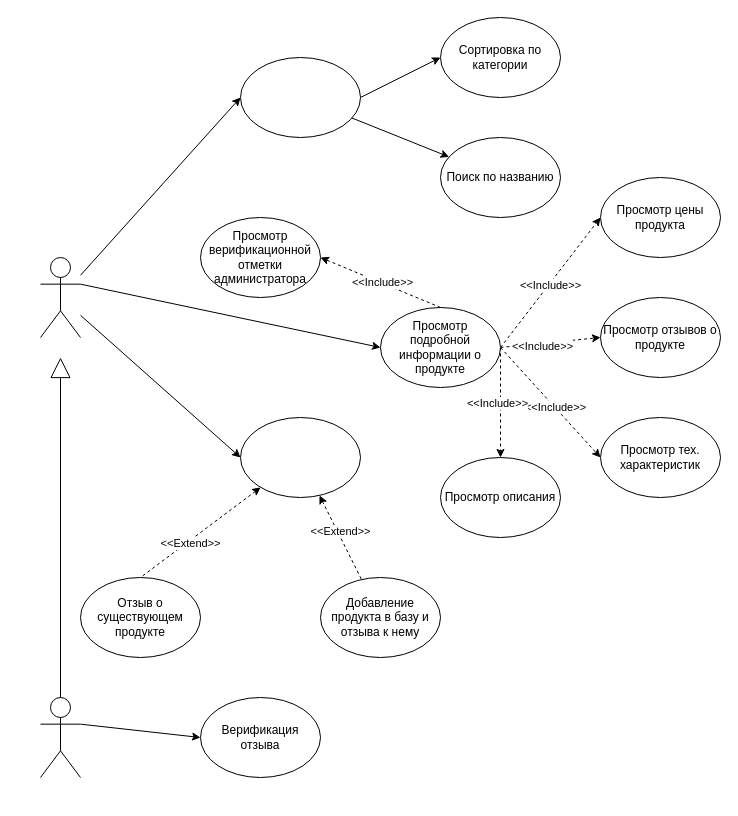
Image size: 738x816. Some labels were removed from this diagram. The shapes that lost their labels are listed below. From the top down, each one's centre as x and y in pixels, then its label:
point (300, 97): Просмотреть список продуктов
point (60, 297): Пользователь
point (300, 457): Оставить отзыв о продукте
point (60, 737): Администратор
